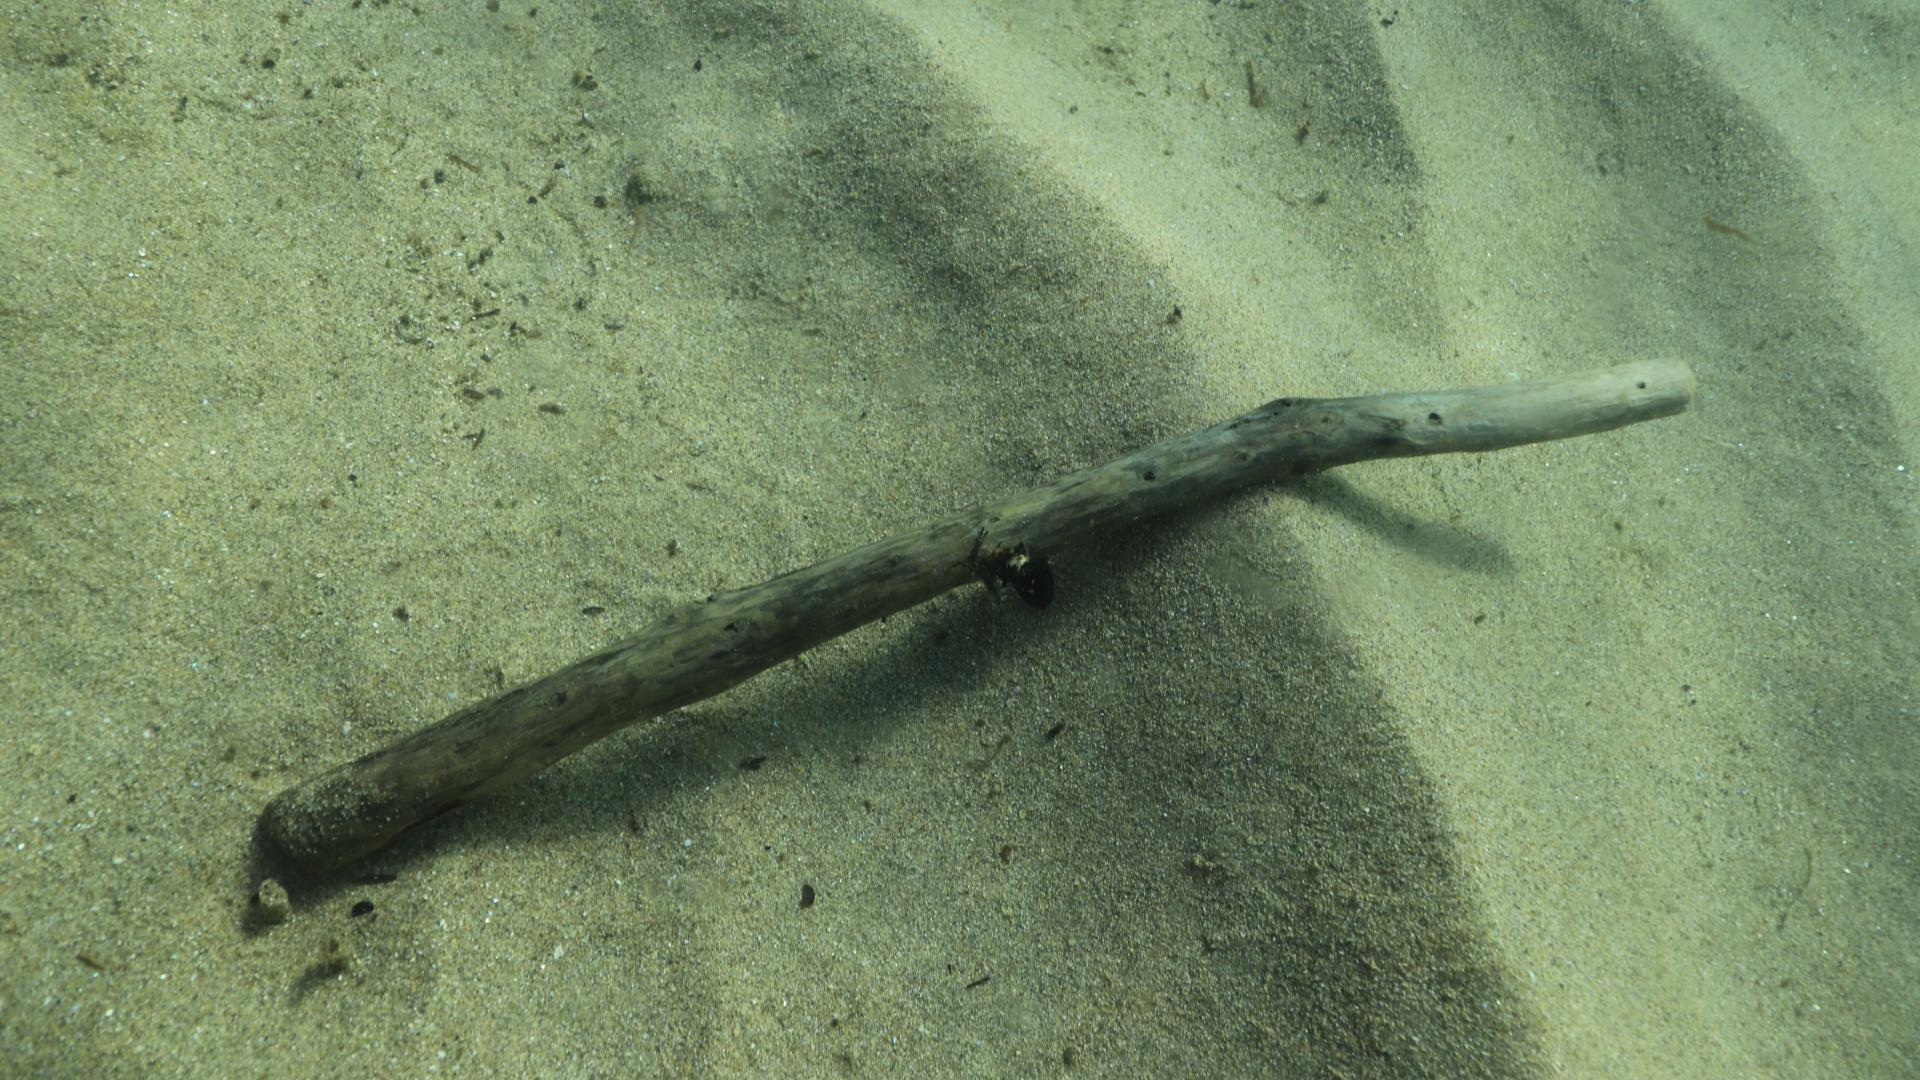wood: (257, 355, 1696, 878)
